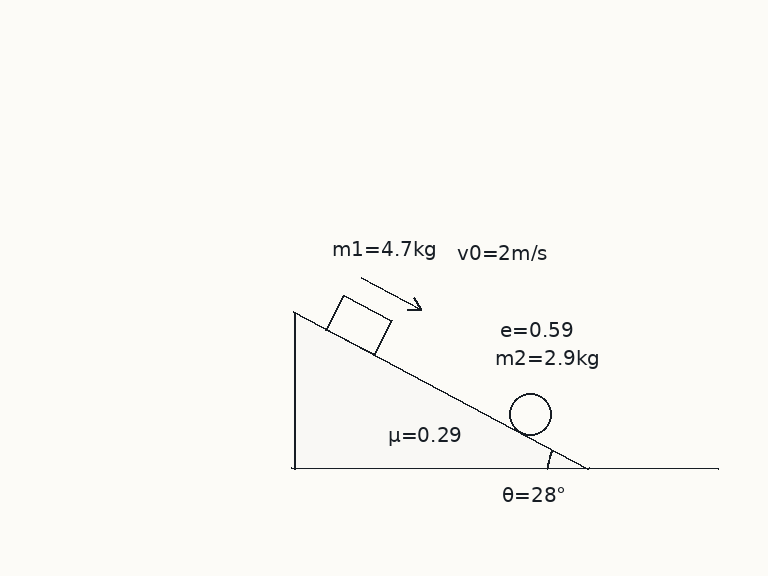ball: (507, 391, 553, 437)
block: (324, 293, 393, 357)
ramp: (291, 310, 590, 471)
